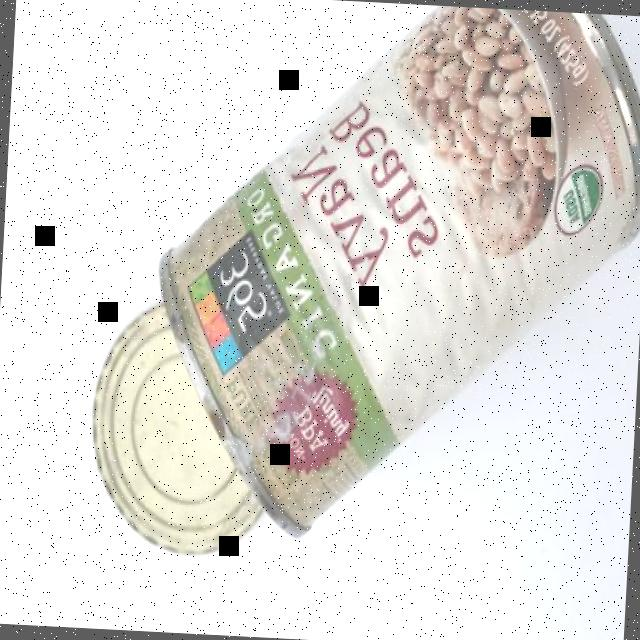can: (79, 0, 640, 592)
